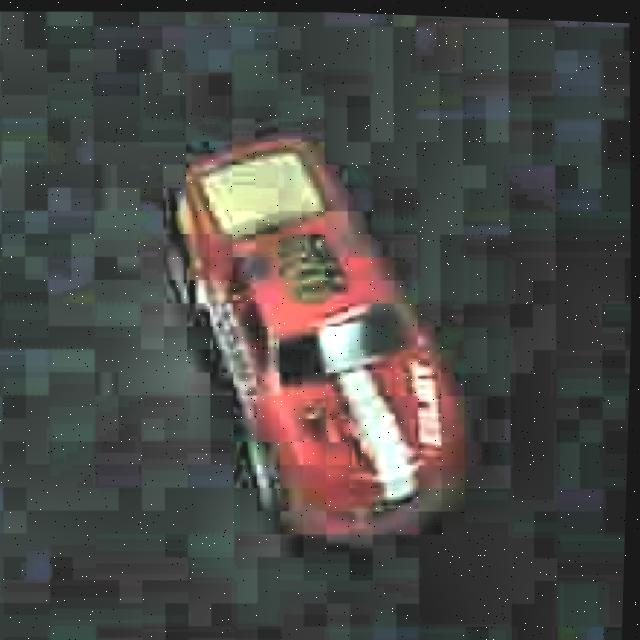car: (149, 113, 484, 561)
